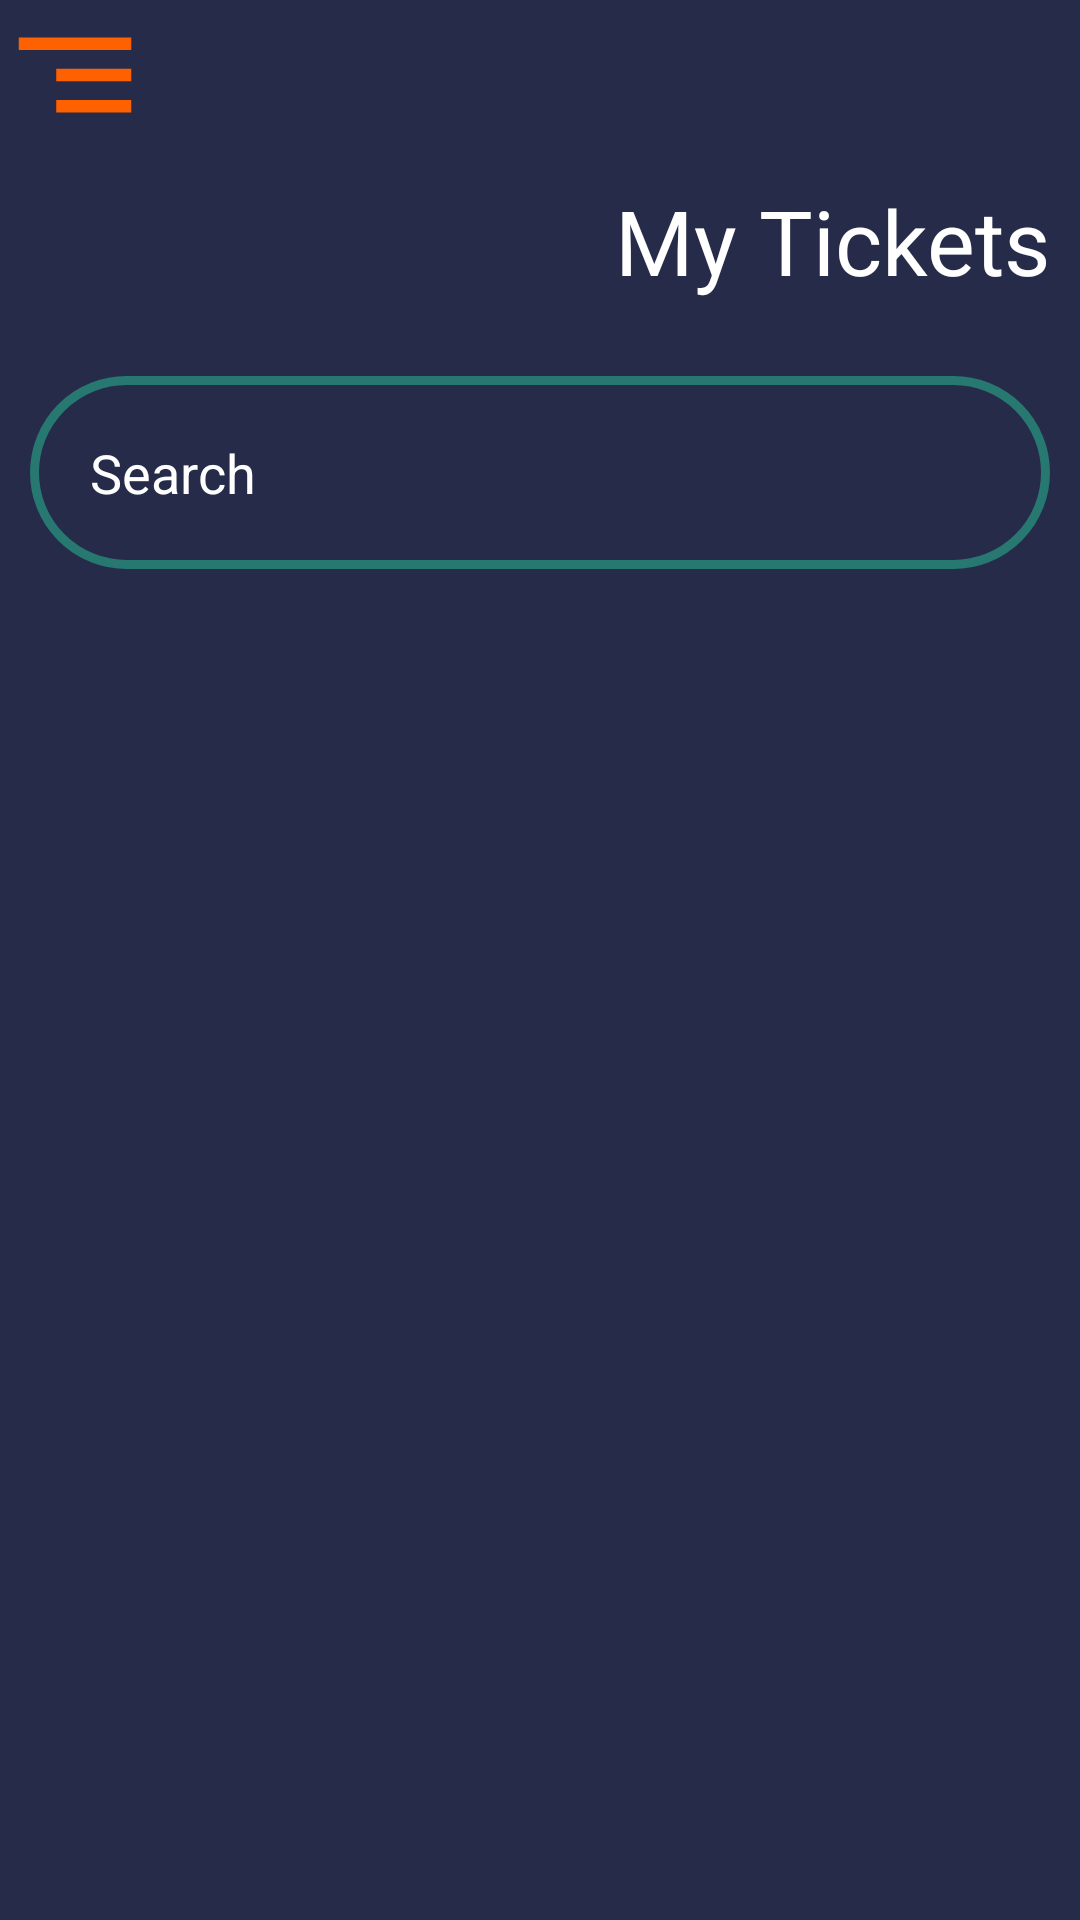

Locate icon controls on the screen. Image size 1080w x 1920h, boxes as (x1, y1, x2, y2).
menu: (18, 37, 132, 113)
